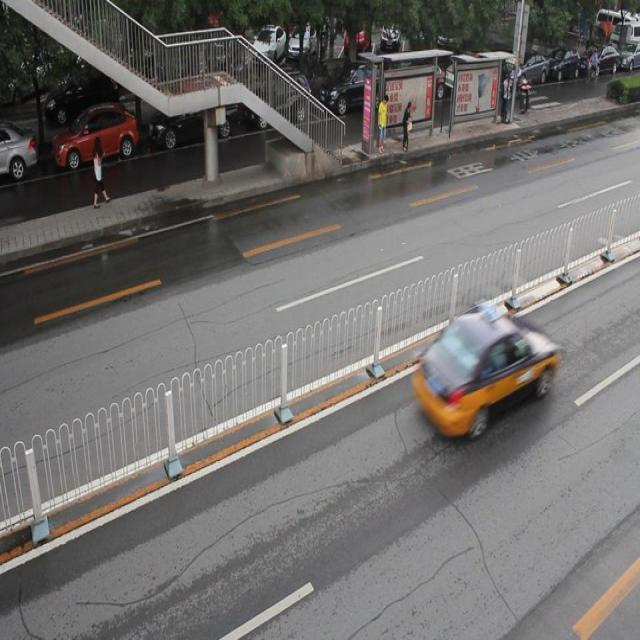car: (410, 304, 563, 438), (48, 105, 136, 172), (143, 91, 236, 145), (314, 62, 390, 120), (240, 72, 309, 132), (1, 125, 37, 182)
